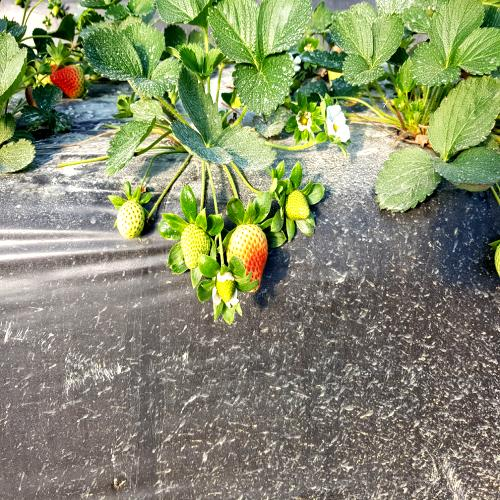partially-ripe: (225, 218, 269, 294), (46, 60, 91, 103)
